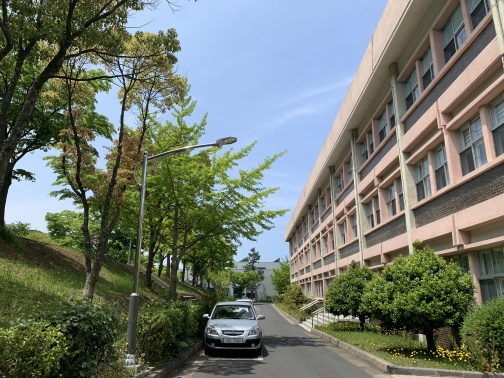College Of Education: (278, 5, 496, 369)
